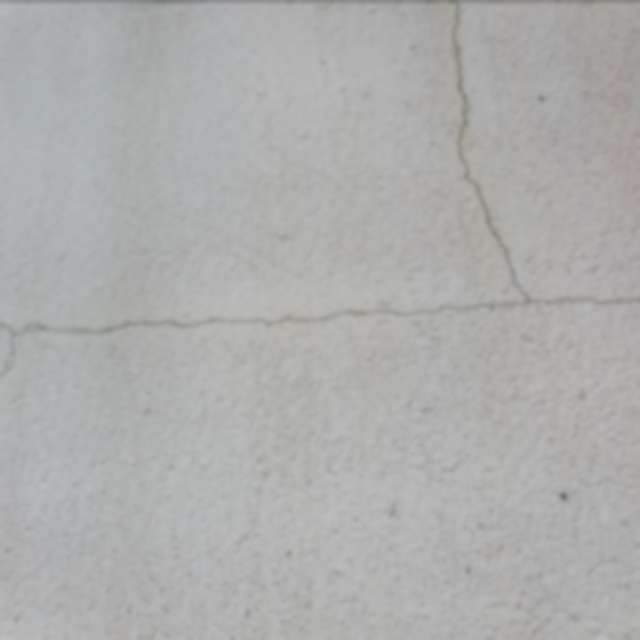SurfaceCrack: (4, 254, 640, 381), (425, 2, 545, 309)
